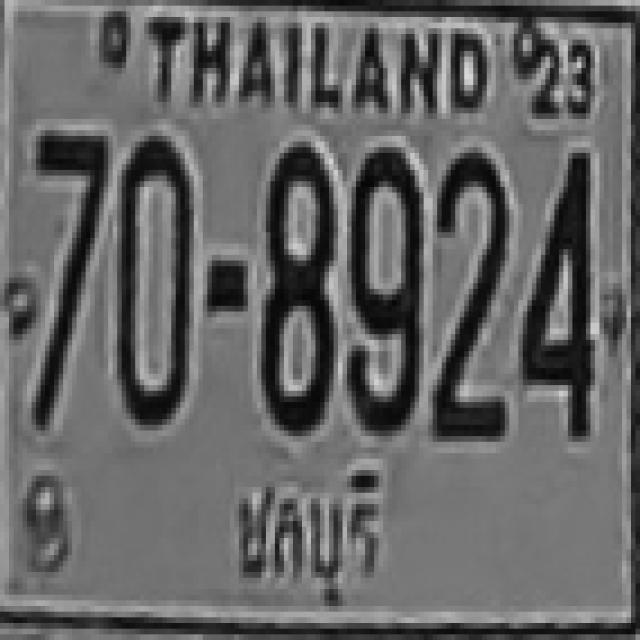0: (113, 130, 189, 419), (347, 144, 419, 326)
2: (430, 147, 507, 391), (430, 207, 507, 433)
4: (518, 147, 590, 430)
7: (32, 127, 104, 303)
8: (255, 142, 331, 424)
9: (343, 147, 419, 430)
Chonburi: (228, 457, 390, 622)
